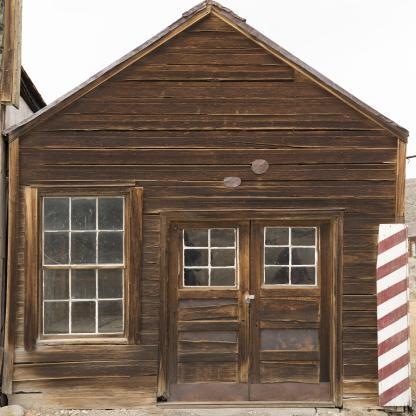Building Outline: (2, 0, 412, 409)
Door: (169, 221, 332, 402)
Facade: (4, 130, 406, 409)
Ground Floor: (3, 133, 406, 409)
Window: (43, 197, 128, 338)
